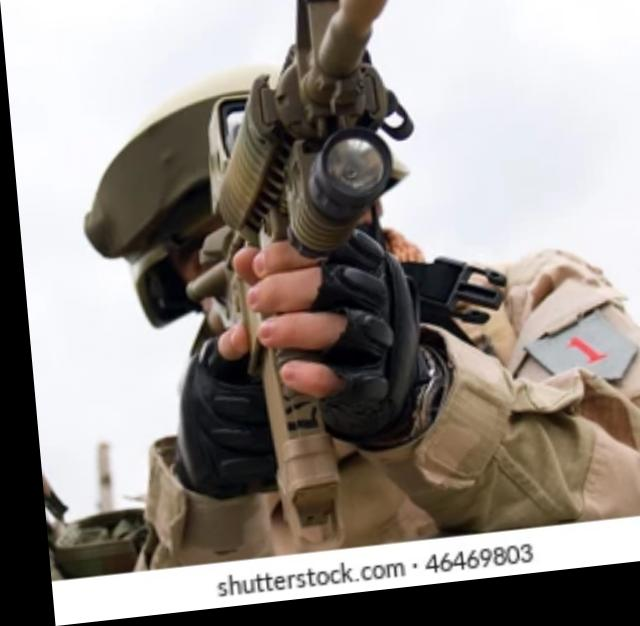other: (90, 59, 640, 564)
